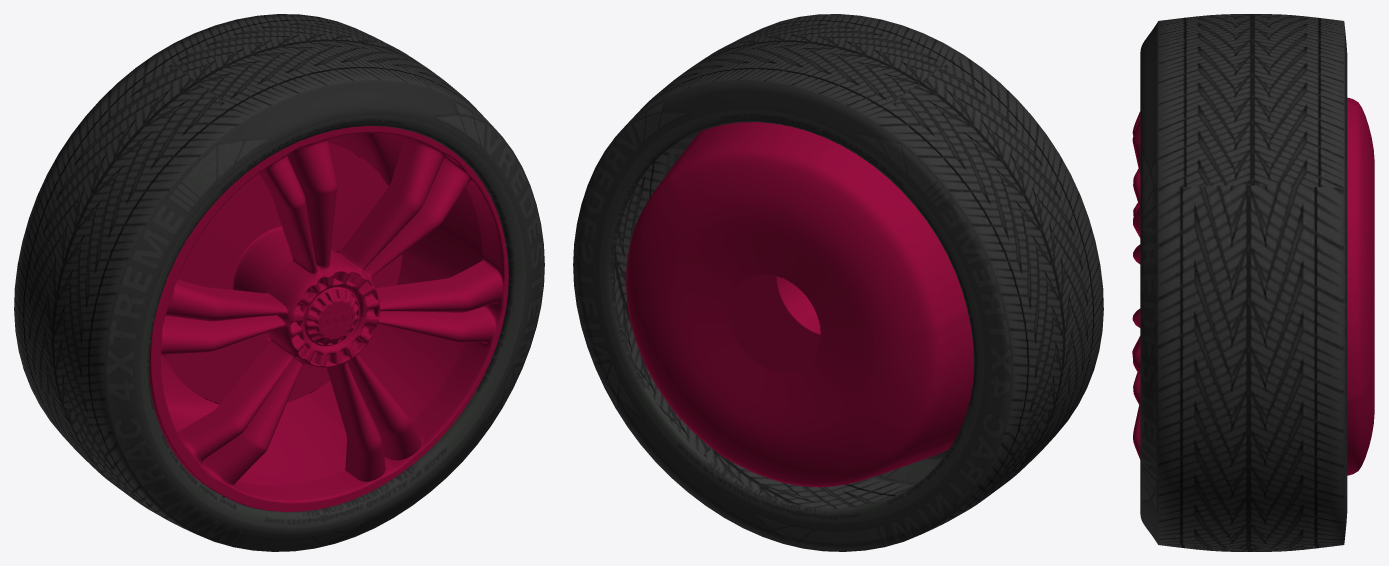
File: llantaD.fbx
The picture shows the model from 3 angles, left to right: view 1: azimuth 30°, elevation 25°; view 2: azimuth 150°, elevation 25°; view 3: azimuth 270°, elevation 25°; orthographic projection. The views are drawn at different scales.
Visible parts, largest first — view 1: teker.004; view 2: teker.004; view 3: teker.004.
Part boxes in pixels (x1,y1,x2,y2): teker.004: [14, 14, 544, 551]; teker.004: [573, 14, 1103, 551]; teker.004: [1132, 14, 1374, 551].
Bounding box in the file's own units: 133 × 132 × 59.68.
